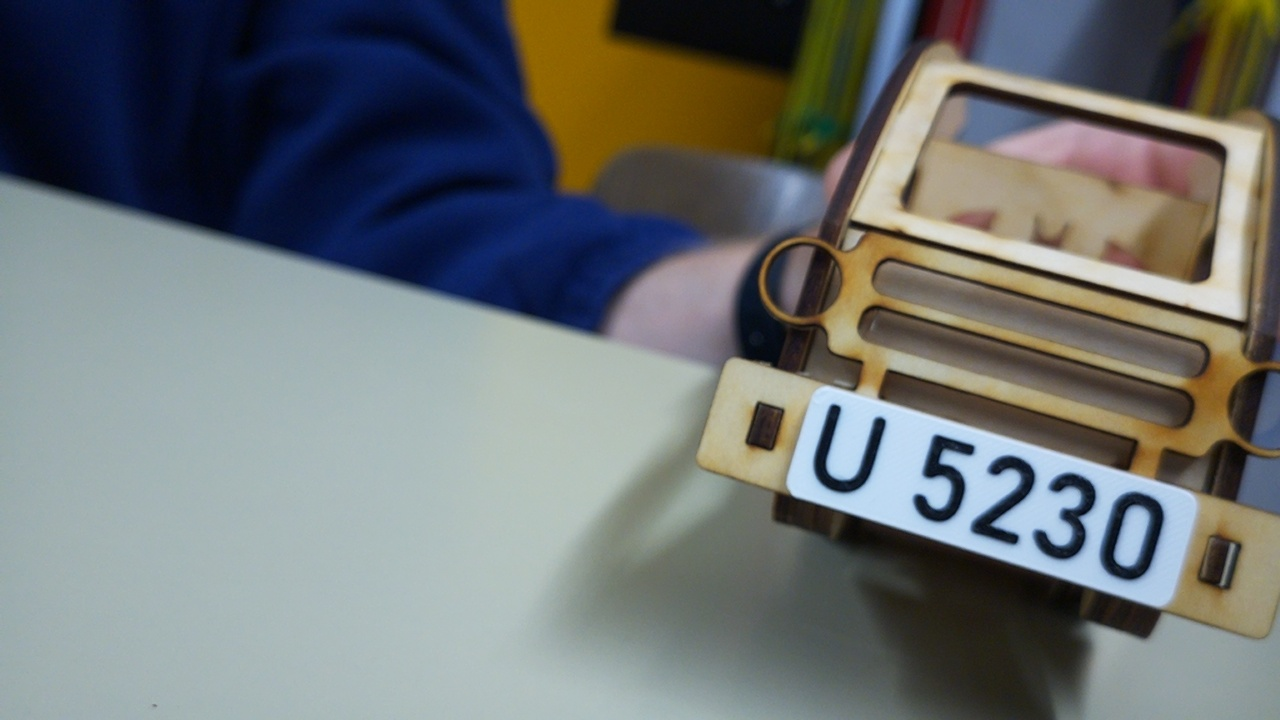license_plate: (781, 382, 1201, 610)
